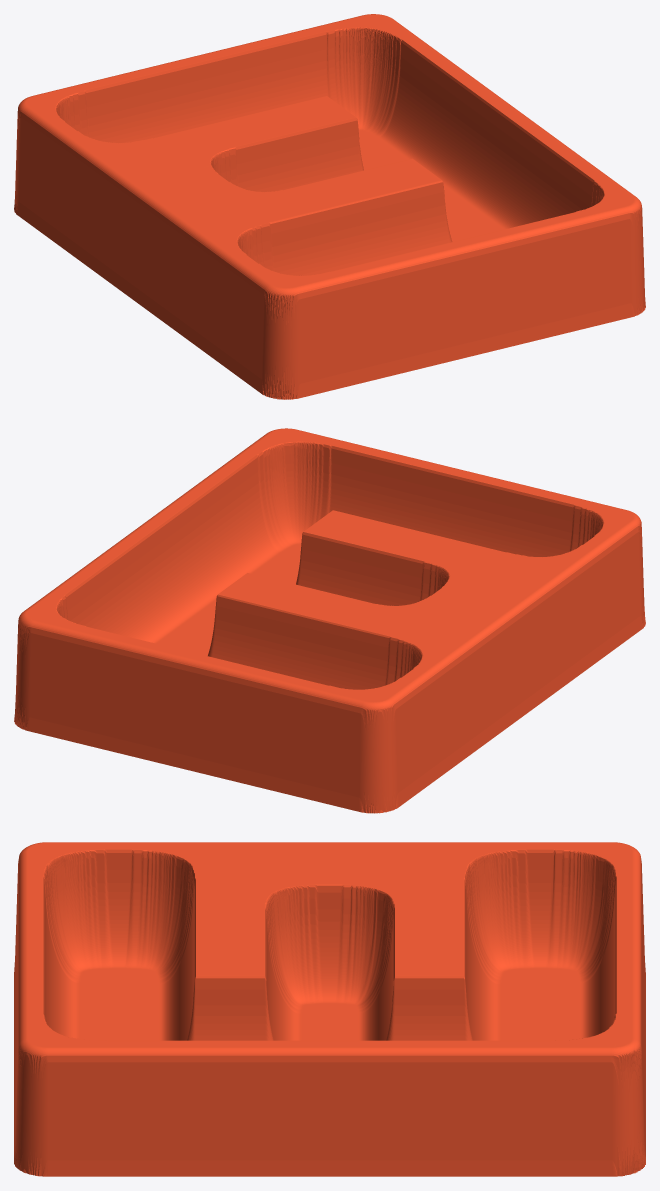
File: mold.glb
The picture shows the model from 3 angles, top to bottom: view 1: azimuth 30°, elevation 25°; view 2: azimuth 150°, elevation 25°; view 3: azimuth 270°, elevation 25°; orthographic projection. The views are drawn at different scales.
Parts seen in each view (by area): view 1: geometry_0; view 2: geometry_0; view 3: geometry_0.
Part boxes in pixels (x1,y1,x2,y2): geometry_0: (14, 14, 645, 399); geometry_0: (14, 428, 645, 813); geometry_0: (14, 842, 645, 1176).
Bounding box in the file's own units: 0.1365 × 0.0365 × 0.1689.
